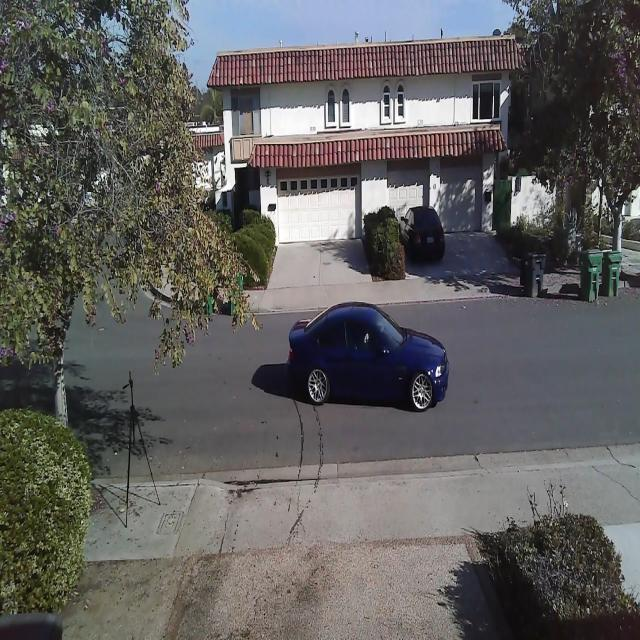Carbeetle: (281, 292, 452, 430)
Civilian: (399, 205, 446, 264)
